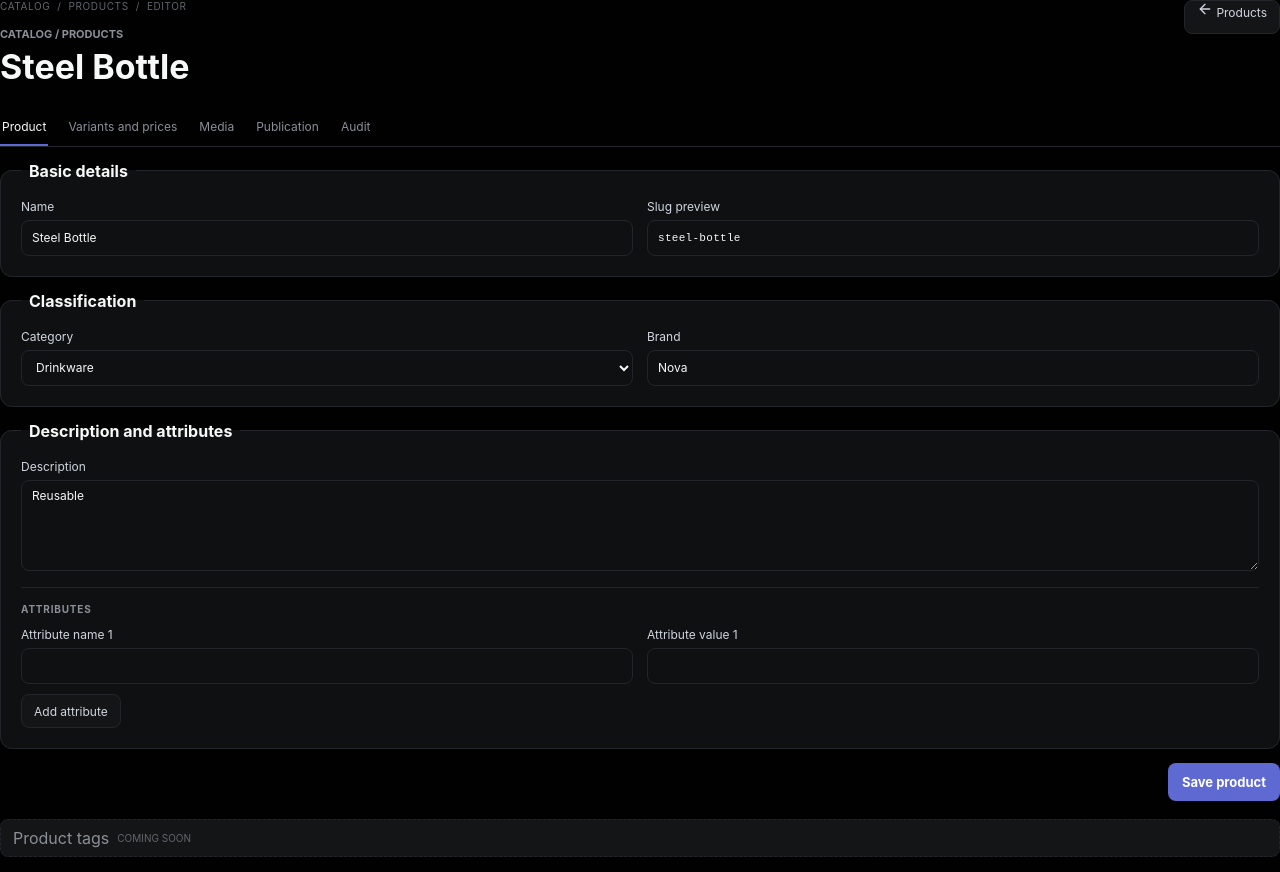
Test: ProductEditorPage › maps FORBIDDEN without exposing transport details
Expected: the field showing "Steel Bottle" is shown, [21,220,633,256]
Click the button "Save product" at (1224, 782), box [1168,763,1279,801]
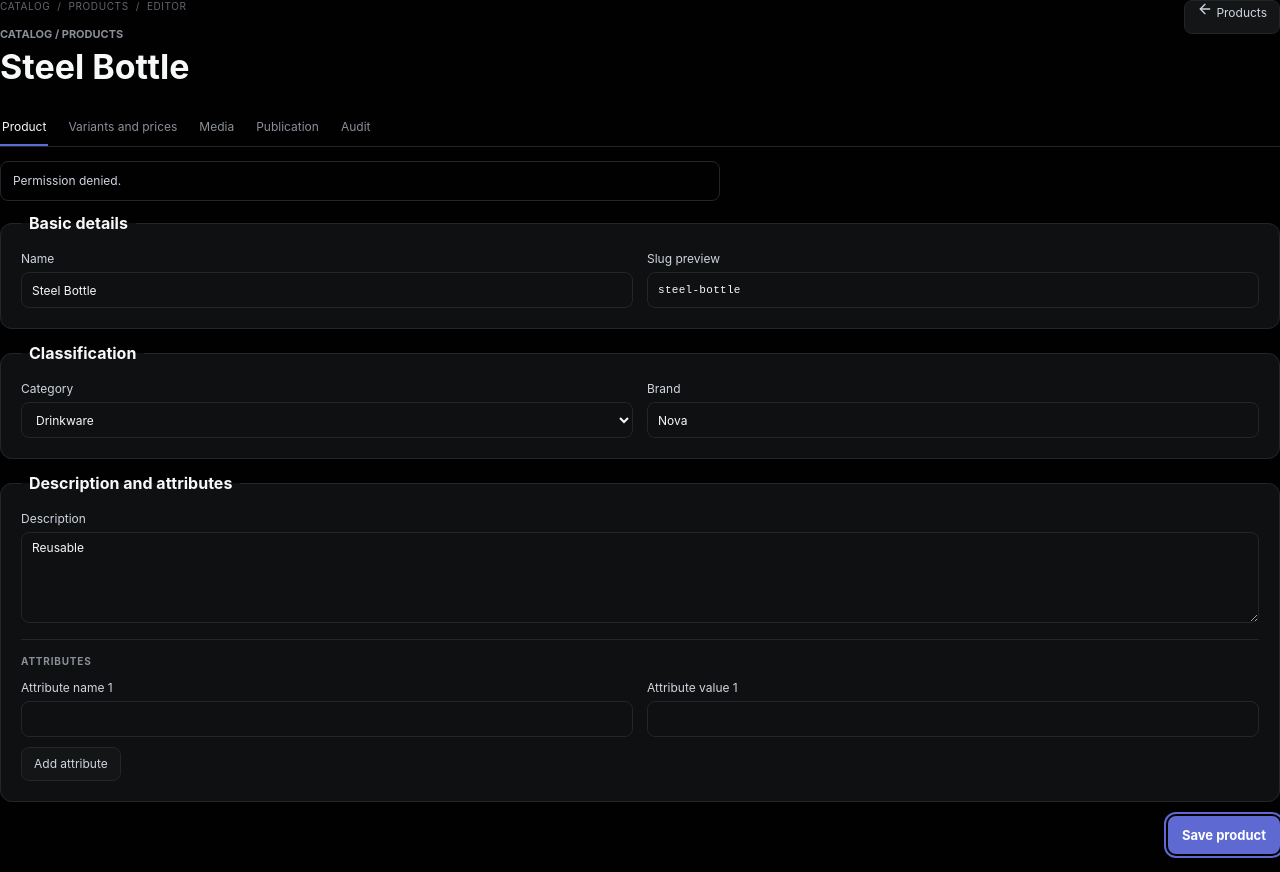
Expected: the text "Permission denied." is shown, [0,161,720,201]
